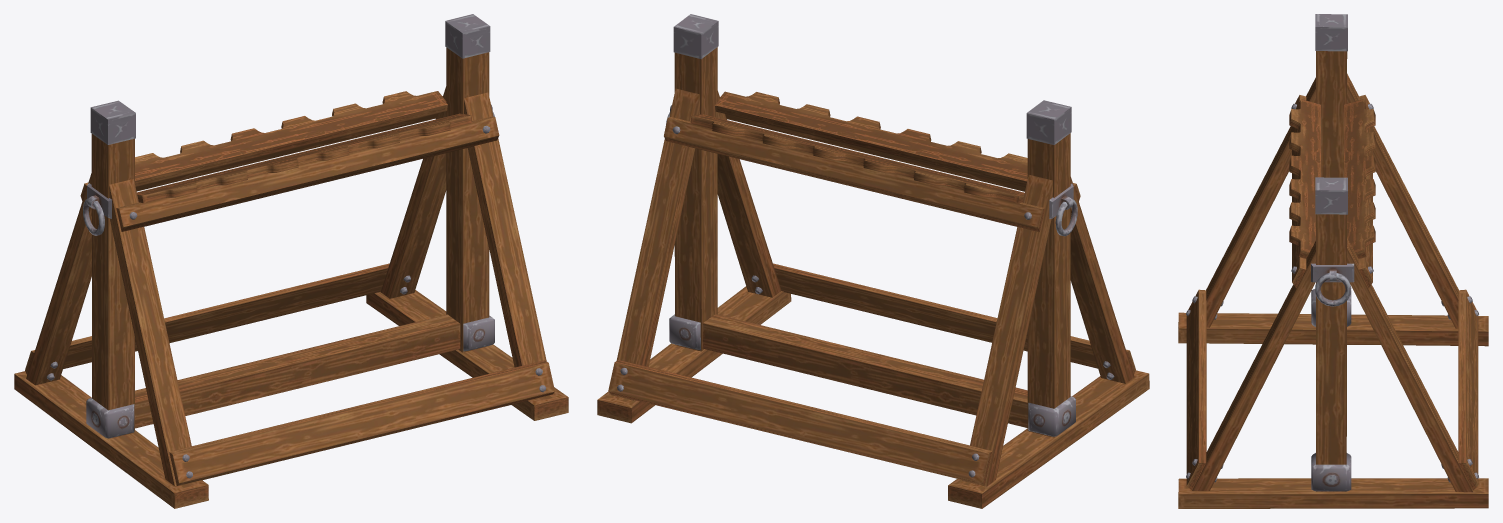
File: WeaponStand.gltf
The picture shows the model from 3 angles, left to right: view 1: azimuth 30°, elevation 25°; view 2: azimuth 150°, elevation 25°; view 3: azimuth 270°, elevation 25°; orthographic projection. The views are drawn at different scales.
Parts seen in each view (by area): view 1: WeaponStand; view 2: WeaponStand; view 3: WeaponStand.
Boxes of the visible parts, x1,y1,x2,y2 form: WeaponStand: (14, 14, 568, 508); WeaponStand: (597, 14, 1149, 508); WeaponStand: (1178, 14, 1488, 508).
Bounding box in the file's own units: 1.39 × 1.11 × 0.9831.
2 materials, 2 textured.
